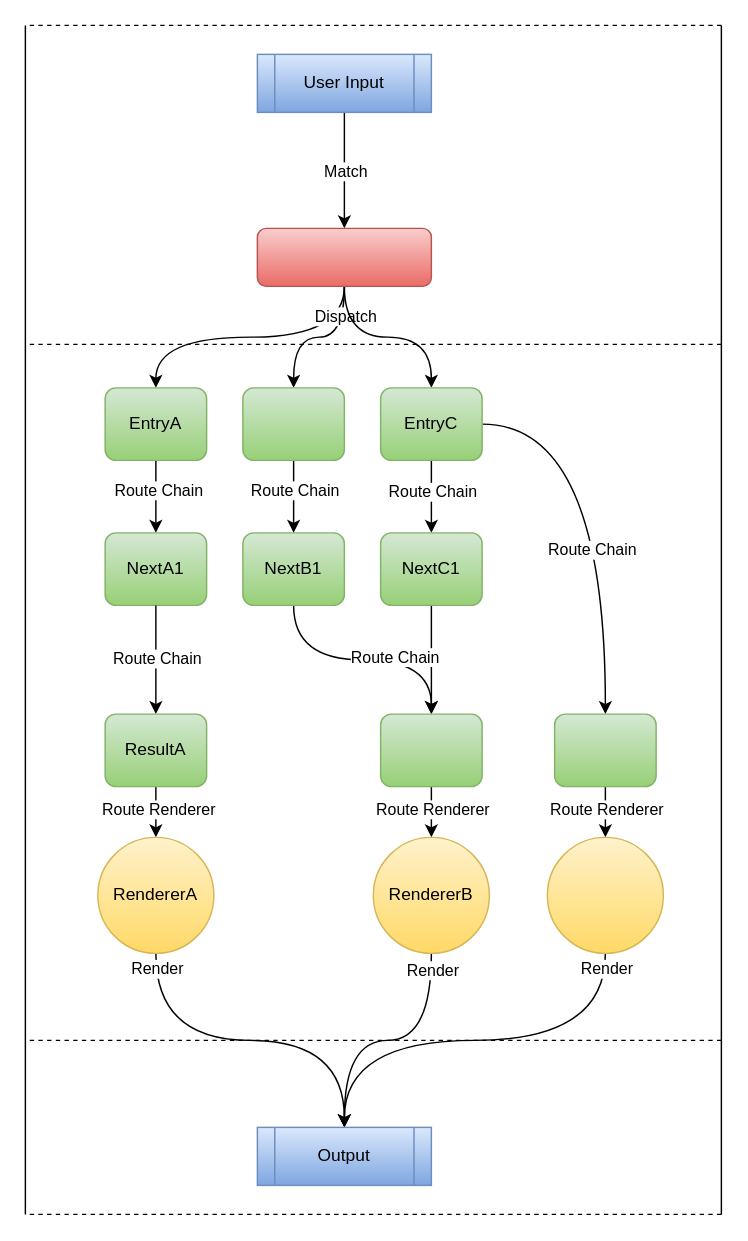
Some shapes in this 748 by 1241 pixel diagram are drawn without their labels. Here are the shapes that lost their labels. From the top down, the centre of each, then its label:
At (x=343, y=256): "Dispatchers".
At (x=292, y=423): "EntryB".
At (x=430, y=750): "ResultB".
At (x=604, y=750): "ResultC".
At (x=604, y=894): "RendererC".
